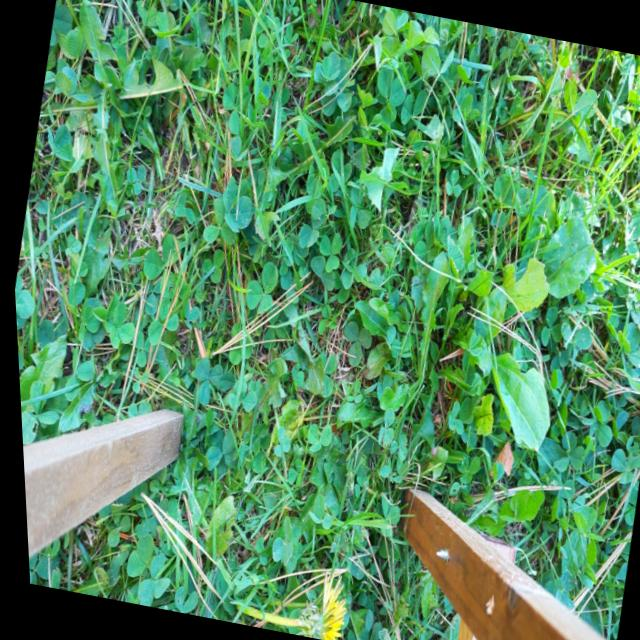base: (218, 586, 244, 620)
